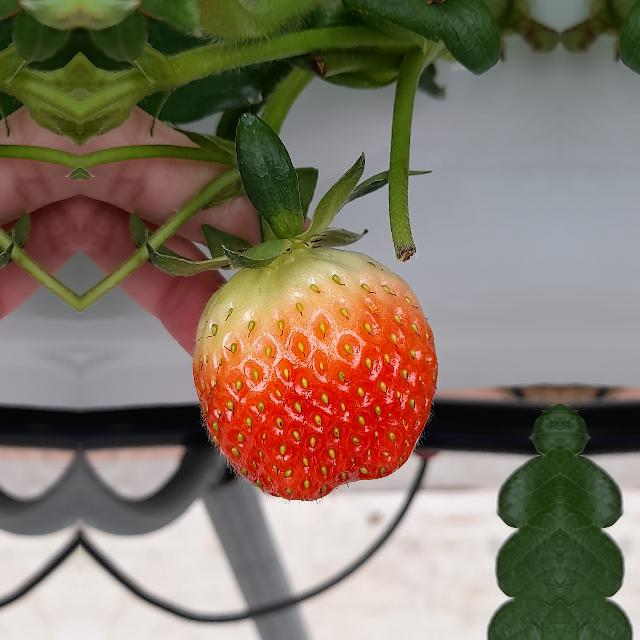Health_100: (192, 247, 438, 501)
